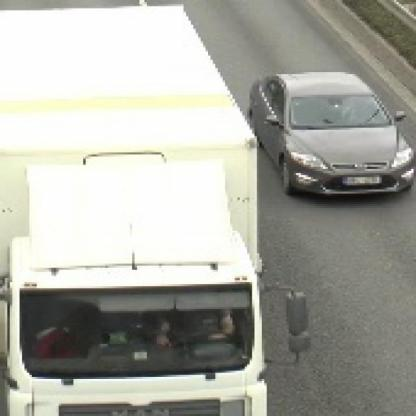truck: (4, 1, 305, 413)
